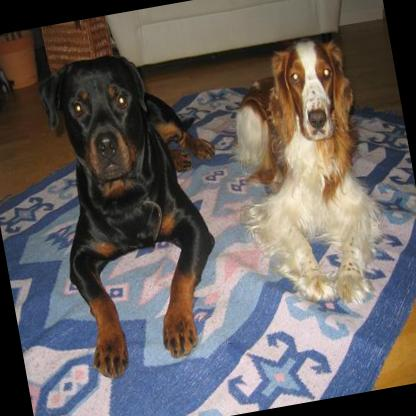Welsh_springer_spaniel: (216, 27, 398, 323)
